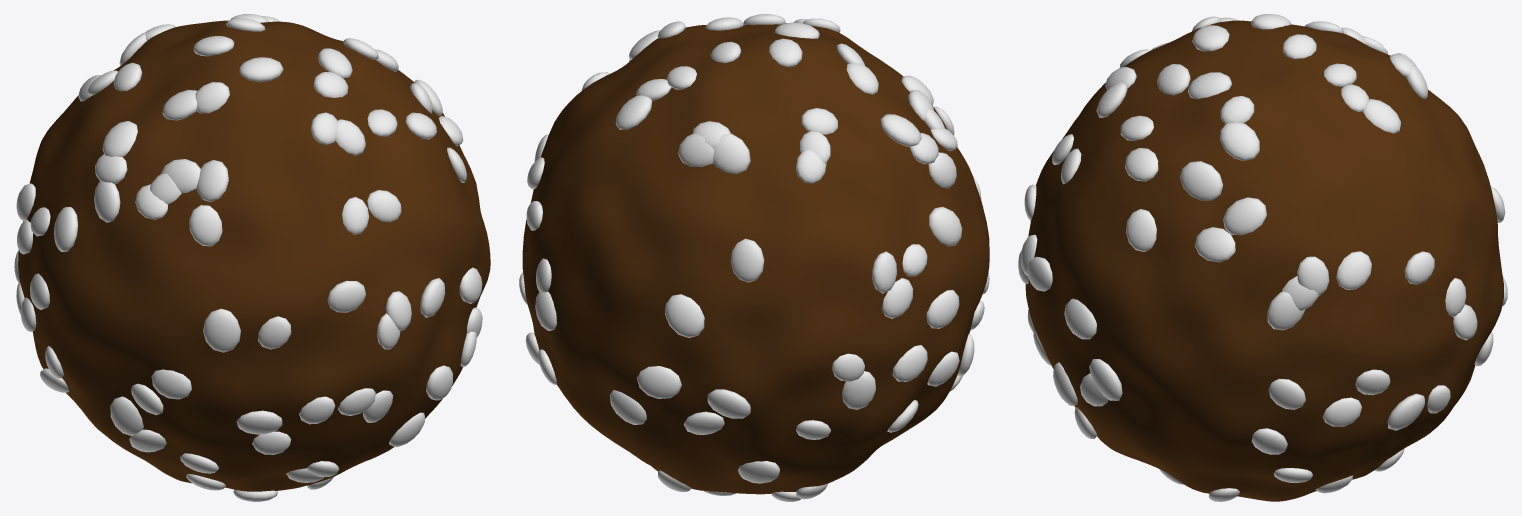
Rendered from candy crush.fbx.
The picture shows the model from 3 angles, left to right: view 1: azimuth 30°, elevation 25°; view 2: azimuth 150°, elevation 25°; view 3: azimuth 270°, elevation 25°; orthographic projection. The views are drawn at different scales.
Parts seen in each view (by area): view 1: Combo Chocolate, Sphere.002, Combo Chocolate|Sphere.002|Dupli|53, Combo Chocolate|Sphere.002|Dupli|56, Combo Chocolate|Sphere.002|Dupli|42, Combo Chocolate|Sphere.002|Dupli|66, Combo Chocolate|Sphere.002|Dupli|65, Combo Chocolate|Sphere.002|Dupli|54, Combo Chocolate|Sphere.002|Dupli|62, Combo Chocolate|Sphere.002|Dupli|68, Combo Chocolate|Sphere.002|Dupli|50, Combo Chocolate|Sphere.002|Dupli|71 (+32 smaller); view 2: Combo Chocolate, Combo Chocolate|Sphere.002|Dupli|92, Combo Chocolate|Sphere.002|Dupli|91, Combo Chocolate|Sphere.002|Dupli|93, Combo Chocolate|Sphere.002|Dupli|87, Combo Chocolate|Sphere.002|Dupli|71, Combo Chocolate|Sphere.002|Dupli|89, Combo Chocolate|Sphere.002|Dupli|83, Combo Chocolate|Sphere.002|Dupli|94, Combo Chocolate|Sphere.002|Dupli|69, Combo Chocolate|Sphere.002|Dupli|66, Combo Chocolate|Sphere.002|Dupli|77 (+22 smaller); view 3: Combo Chocolate, Combo Chocolate|Sphere.002|Dupli|23, Combo Chocolate|Sphere.002|Dupli|18, Combo Chocolate|Sphere.002|Dupli|20, Combo Chocolate|Sphere.002|Dupli|22, Combo Chocolate|Sphere.002|Dupli|25, Combo Chocolate|Sphere.002|Dupli|11, Combo Chocolate|Sphere.002|Dupli|12, Combo Chocolate|Sphere.002|Dupli|27, Combo Chocolate|Sphere.002|Dupli|14, Combo Chocolate|Sphere.002|Dupli|26, Combo Chocolate|Sphere.002|Dupli|29 (+22 smaller).
Boxes of the visible parts, x1,y1,x2,y2 form: Combo Chocolate: (18, 20, 490, 491); Sphere.002: (203, 308, 240, 352); Combo Chocolate|Sphere.002|Dupli|53: (189, 205, 222, 246); Combo Chocolate|Sphere.002|Dupli|56: (196, 160, 228, 201); Combo Chocolate|Sphere.002|Dupli|42: (327, 280, 365, 312); Combo Chocolate|Sphere.002|Dupli|66: (102, 121, 137, 157); Combo Chocolate|Sphere.002|Dupli|65: (110, 396, 143, 435); Combo Chocolate|Sphere.002|Dupli|54: (151, 369, 191, 399); Combo Chocolate|Sphere.002|Dupli|62: (160, 159, 200, 193); Combo Chocolate|Sphere.002|Dupli|68: (94, 181, 120, 222); Combo Chocolate|Sphere.002|Dupli|50: (239, 57, 283, 82); Combo Chocolate|Sphere.002|Dupli|71: (54, 207, 78, 251); Combo Chocolate: (522, 23, 989, 494); Combo Chocolate|Sphere.002|Dupli|92: (665, 294, 704, 337); Combo Chocolate|Sphere.002|Dupli|91: (713, 133, 750, 173); Combo Chocolate|Sphere.002|Dupli|93: (637, 366, 681, 398); Combo Chocolate|Sphere.002|Dupli|87: (730, 238, 764, 282); Combo Chocolate|Sphere.002|Dupli|71: (929, 206, 962, 246); Combo Chocolate|Sphere.002|Dupli|89: (707, 389, 750, 418); Combo Chocolate|Sphere.002|Dupli|83: (842, 371, 875, 409); Combo Chocolate|Sphere.002|Dupli|94: (678, 133, 714, 167); Combo Chocolate|Sphere.002|Dupli|69: (926, 290, 959, 328); Combo Chocolate|Sphere.002|Dupli|66: (880, 114, 921, 146); Combo Chocolate|Sphere.002|Dupli|77: (882, 278, 913, 318); Combo Chocolate: (1025, 20, 1503, 501); Combo Chocolate|Sphere.002|Dupli|23: (1180, 161, 1222, 200); Combo Chocolate|Sphere.002|Dupli|18: (1223, 197, 1266, 235); Combo Chocolate|Sphere.002|Dupli|20: (1220, 122, 1259, 160); Combo Chocolate|Sphere.002|Dupli|22: (1195, 227, 1235, 262); Combo Chocolate|Sphere.002|Dupli|25: (1126, 209, 1156, 251); Combo Chocolate|Sphere.002|Dupli|11: (1336, 251, 1371, 289); Combo Chocolate|Sphere.002|Dupli|12: (1267, 291, 1304, 330); Combo Chocolate|Sphere.002|Dupli|27: (1064, 298, 1096, 339); Combo Chocolate|Sphere.002|Dupli|14: (1297, 256, 1329, 295); Combo Chocolate|Sphere.002|Dupli|26: (1125, 148, 1158, 181); Combo Chocolate|Sphere.002|Dupli|29: (1089, 359, 1122, 400).
Bounding box in the file's own units: 71.98 × 73.58 × 72.57.
